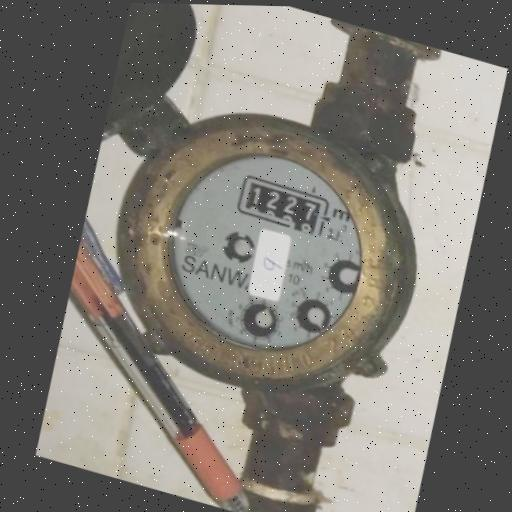1: (243, 181, 268, 214)
2: (259, 186, 286, 218), (276, 191, 303, 223)
7: (291, 196, 323, 236)
border_water_meter_number: (230, 170, 334, 240)
